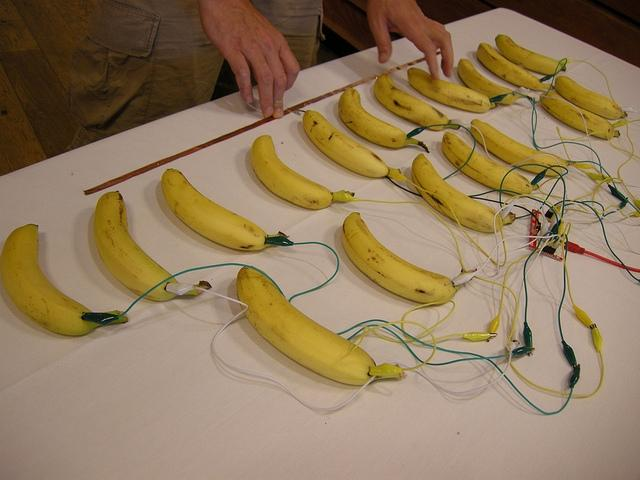banana: (236, 266, 408, 386), (0, 223, 128, 336), (92, 190, 212, 301), (341, 213, 463, 304), (162, 169, 290, 251), (412, 154, 514, 232), (250, 135, 355, 209), (302, 110, 400, 177), (442, 132, 538, 196), (338, 88, 430, 153), (471, 118, 568, 176), (374, 74, 462, 130), (407, 66, 497, 113), (540, 90, 620, 140), (476, 42, 552, 91), (457, 58, 533, 105), (556, 76, 628, 120), (495, 34, 566, 75)
